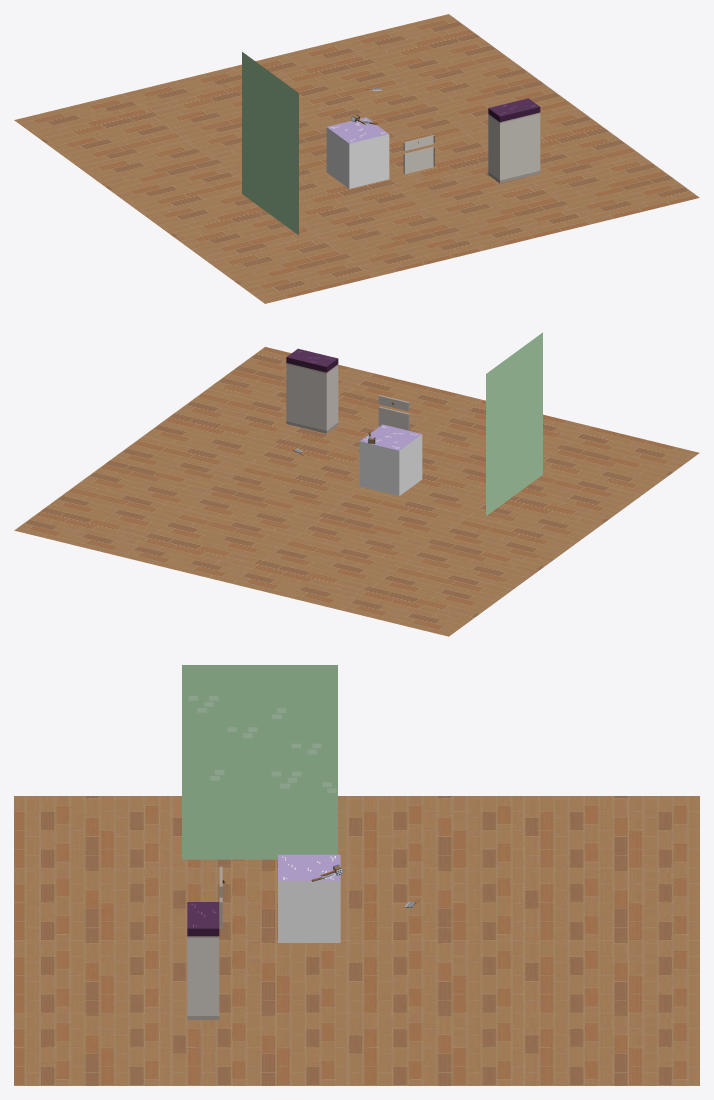
The picture shows the model from 3 angles, top to bottom: view 1: azimuth 30°, elevation 25°; view 2: azimuth 150°, elevation 25°; view 3: azimuth 270°, elevation 25°; orthographic projection. The views are drawn at different scales.
Parts seen in each view (by area): view 1: pPlane1, mesh_kitchen_wall_02, mesh_kitchen_counterPurple_08, tezgah, cekmece; view 2: pPlane1, mesh_kitchen_wall_02, mesh_kitchen_counterPurple_08, tezgah, cekmece; view 3: pPlane1, mesh_kitchen_wall_02, tezgah, mesh_kitchen_counterPurple_08.
Part boxes in pixels (x1,y1,x2,y2): pPlane1: (14, 14, 699, 303); mesh_kitchen_wall_02: (242, 52, 298, 235); mesh_kitchen_counterPurple_08: (488, 98, 540, 183); tezgah: (326, 117, 389, 188); cekmece: (403, 135, 434, 174); pPlane1: (14, 347, 699, 636); mesh_kitchen_wall_02: (486, 332, 542, 515); mesh_kitchen_counterPurple_08: (286, 348, 338, 433); tezgah: (359, 424, 422, 495); cekmece: (378, 395, 409, 430); pPlane1: (14, 796, 699, 1085); mesh_kitchen_wall_02: (182, 665, 337, 859); tezgah: (278, 854, 340, 942); mesh_kitchen_counterPurple_08: (187, 902, 219, 1019).
Size of the model in its own units: 17.62 by 5.51 by 17.62.
9 materials, 7 textured.
